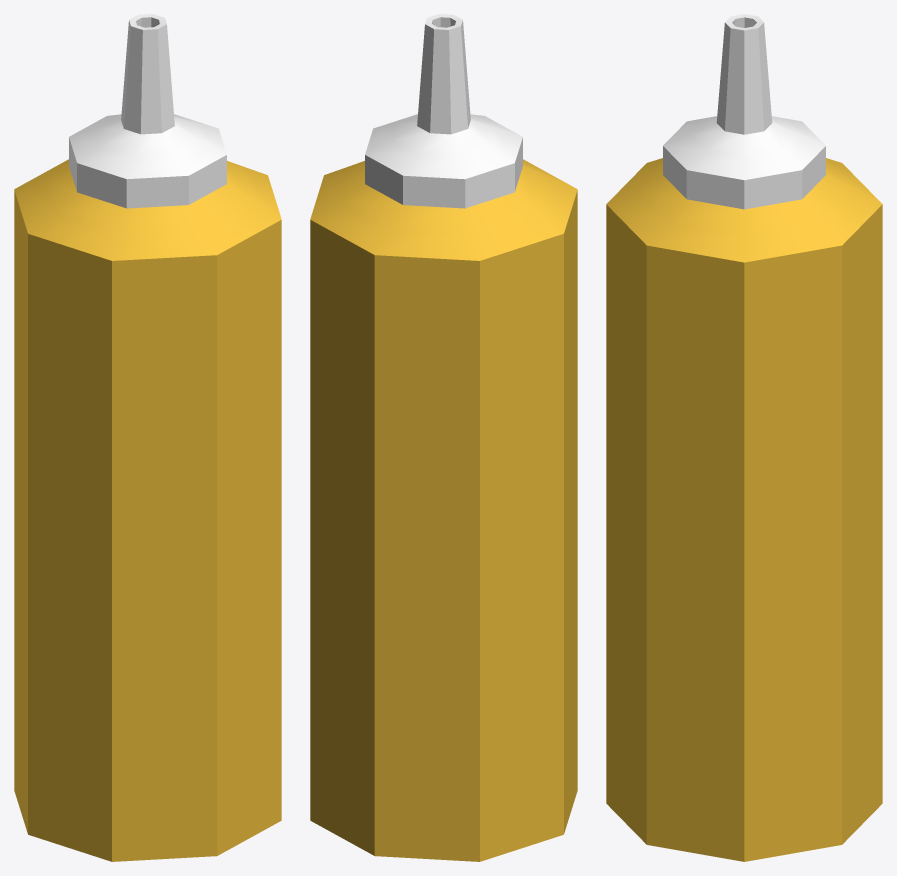
The model's file is SauceD.fbx.
The picture shows the model from 3 angles, left to right: view 1: azimuth 30°, elevation 25°; view 2: azimuth 150°, elevation 25°; view 3: azimuth 270°, elevation 25°; orthographic projection.
Parts seen in each view (by area): view 1: SauceD; view 2: SauceD; view 3: SauceD.
Boxes of the visible parts, x1=… form: SauceD: x1=14, y1=14, x2=281, y2=861; SauceD: x1=310, y1=14, x2=577, y2=861; SauceD: x1=606, y1=14, x2=882, y2=861.
Size of the model in its own units: 85.64 by 267 by 85.64.
